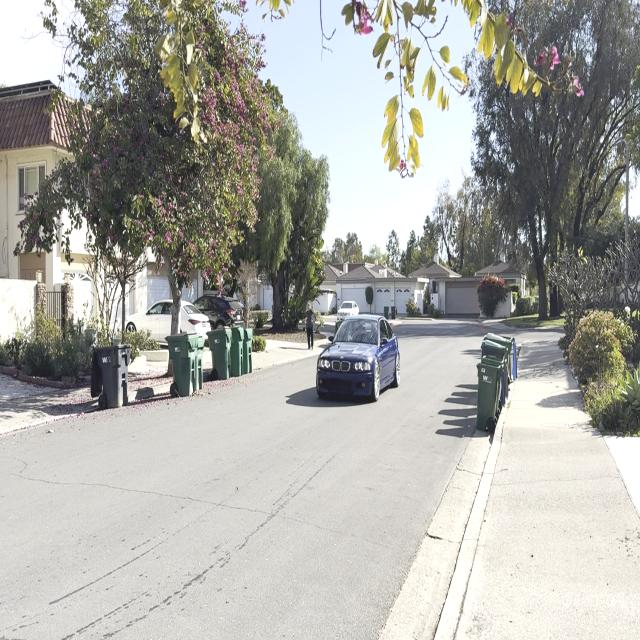Carbeetle: (300, 298, 409, 419)
